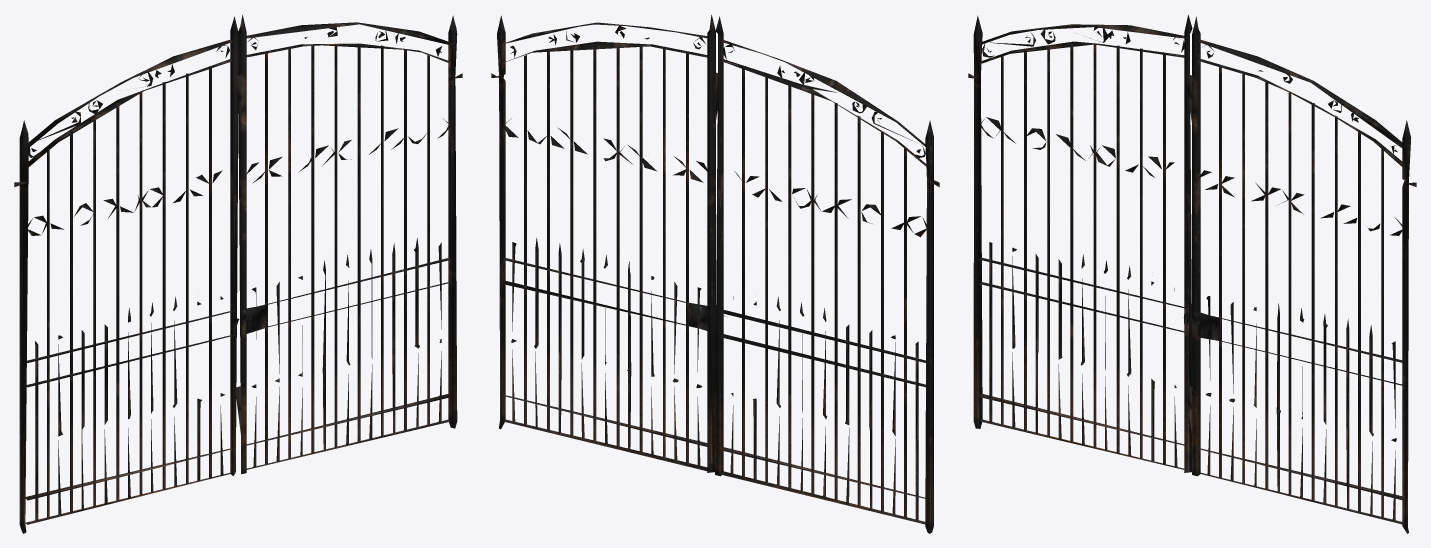
The model's file is large_iron_gate.glb.
3 views of the same model, side by side, from view 1: azimuth 30°, elevation 25°; view 2: azimuth 150°, elevation 25°; view 3: azimuth 330°, elevation 25° (orthographic).
Parts seen in each view (by area): view 1: large_iron_gate_left_door, large_iron_gate_right_door; view 2: large_iron_gate_left_door, large_iron_gate_right_door; view 3: large_iron_gate_right_door, large_iron_gate_left_door.
Boxes of the visible parts, x1,y1,x2,y2 form: large_iron_gate_left_door: (19,16,238,533); large_iron_gate_right_door: (235,15,457,474); large_iron_gate_left_door: (715,16,933,533); large_iron_gate_right_door: (497,15,717,472); large_iron_gate_right_door: (1185,16,1410,533); large_iron_gate_left_door: (973,14,1192,472).
Bounding box in the file's own units: 2.95 × 2.93 × 0.06.
1 material, 1 textured.
